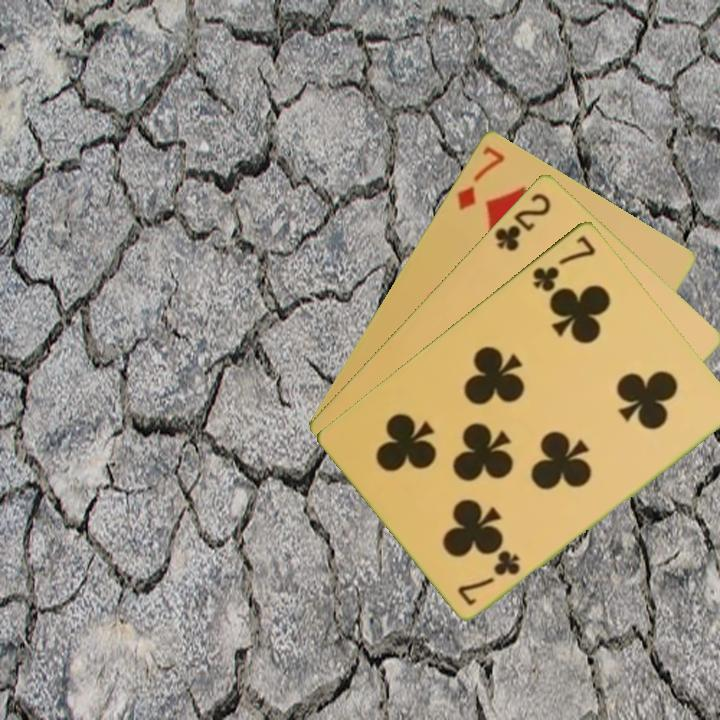2c: (490, 188, 554, 254)
7c: (529, 231, 599, 295), (455, 548, 523, 609)
7d: (453, 142, 508, 213)
